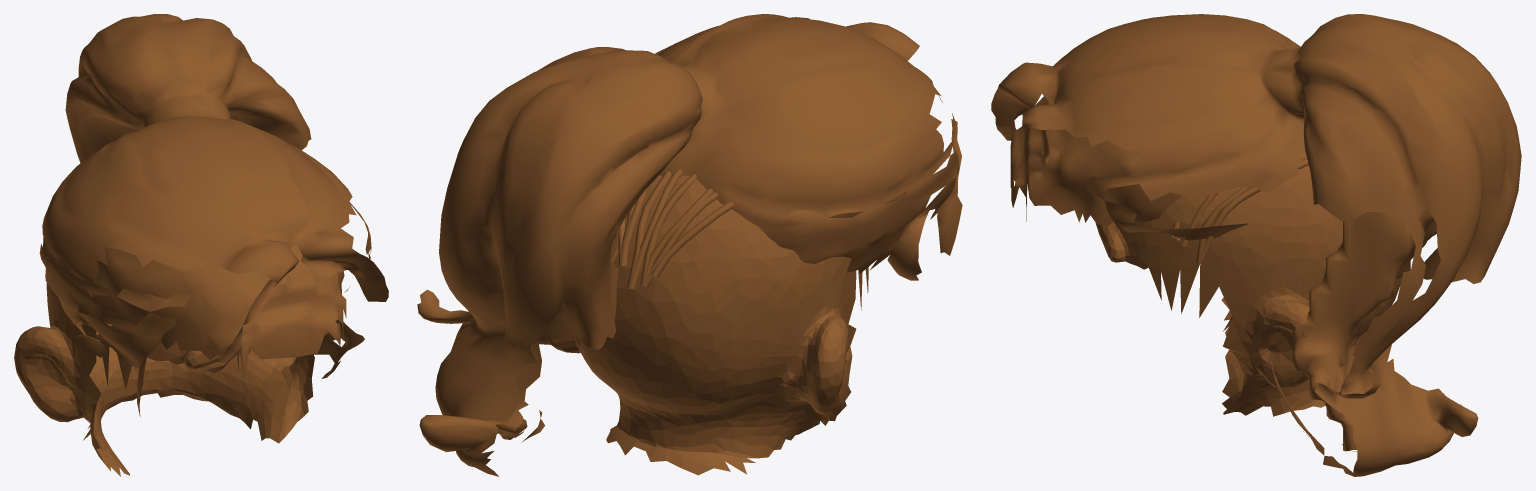
The model's file is high-ponytail.glb.
3 renders of one model, left to right at view 1: azimuth 30°, elevation 25°; view 2: azimuth 150°, elevation 25°; view 3: azimuth 270°, elevation 25°, orthographic. The views are drawn at different scales.
Visible parts, largest first — view 1: Hair, HairScalp; view 2: Hair, HairScalp, HairPulledRootStrands; view 3: Hair, HairScalp, HairPulledRootStrands.
Boxes of the visible parts, x1,y1,x2,y2 form: Hair: (39,14,388,416); HairScalp: (14,258,330,476); Hair: (417,14,962,476); HairScalp: (546,175,868,475); HairPulledRootStrands: (611,169,733,289); Hair: (991,14,1521,476); HairScalp: (1095,165,1402,416); HairPulledRootStrands: (1170,154,1308,264).
Size of the model in its own units: 0.5884 by 0.5657 by 0.725.
